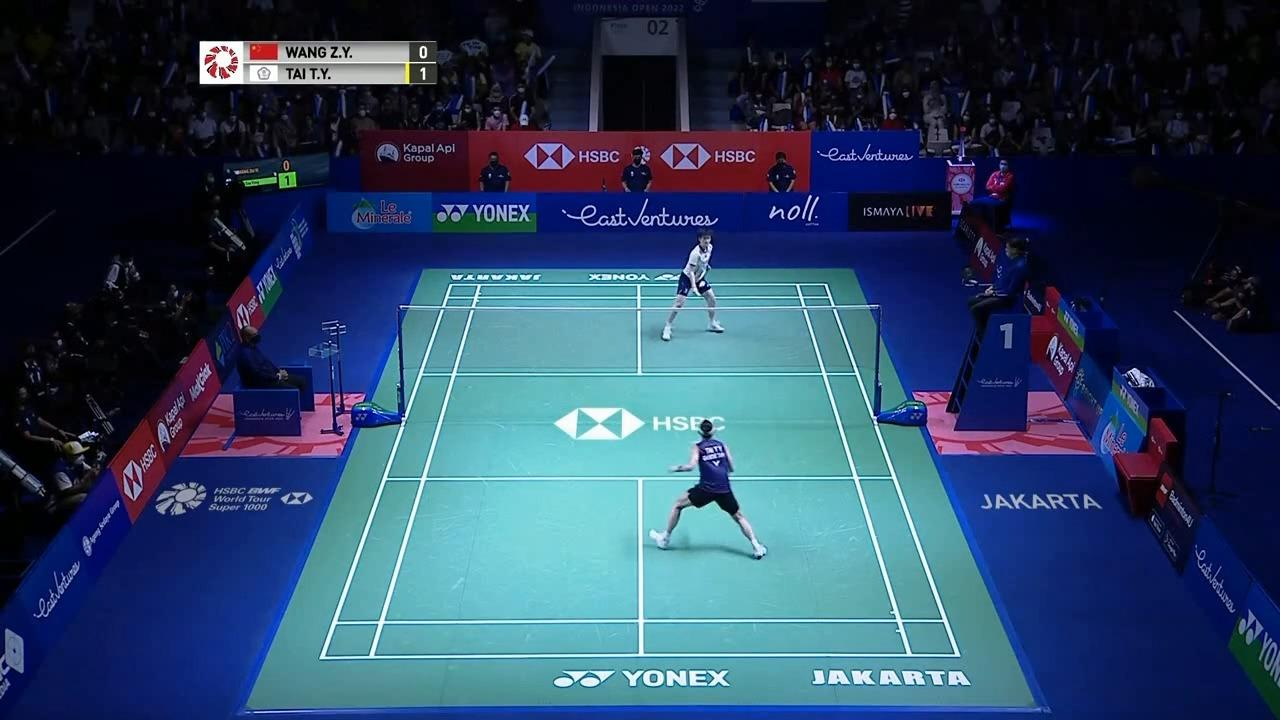shuttle: (699, 282, 707, 289)
